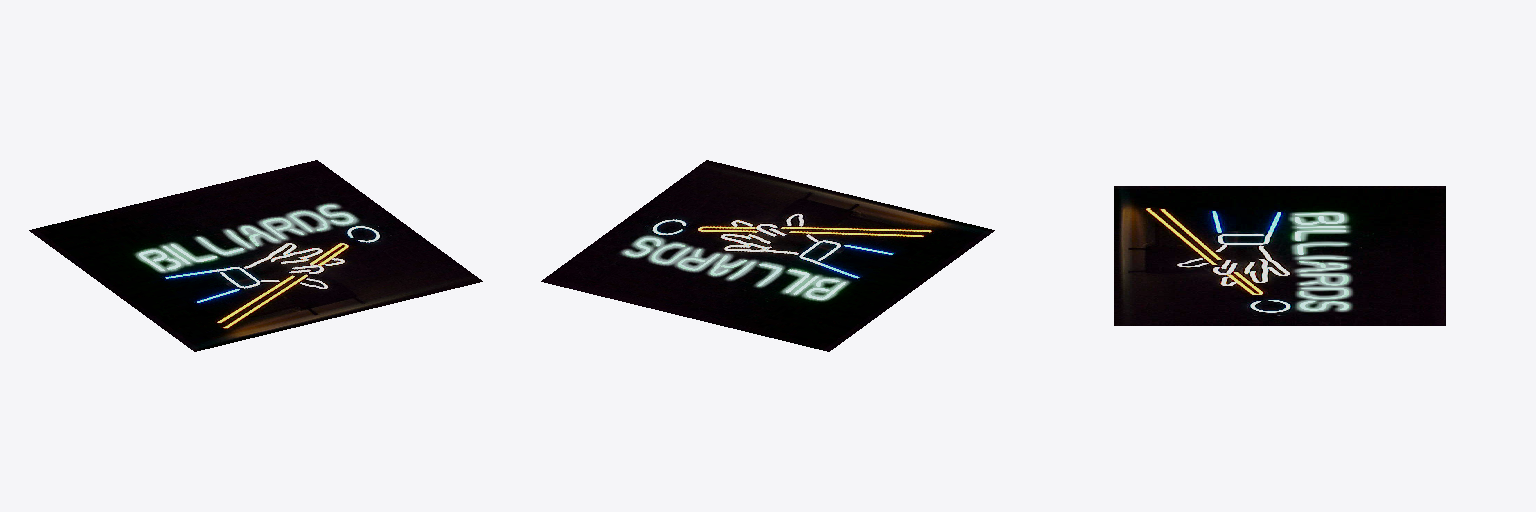
The picture shows the model from 3 angles: view 1: azimuth 30°, elevation 25°; view 2: azimuth 150°, elevation 25°; view 3: azimuth 270°, elevation 25°; orthographic projection.
Parts seen in each view (by area): view 1: Plane01; view 2: Plane01; view 3: Plane01.
Boxes of the visible parts, box(x1,y1,x2,y2) form: Plane01: box(29, 160, 482, 351); Plane01: box(541, 160, 994, 351); Plane01: box(1114, 186, 1445, 325).
Bounding box in the file's own units: 26.47 × 0 × 26.39.
Materials: 1 (1 with a texture image).